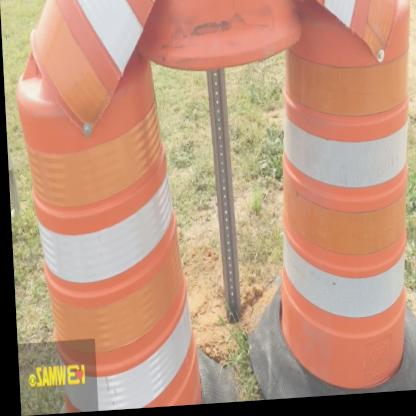obstacle: (253, 0, 416, 395)
